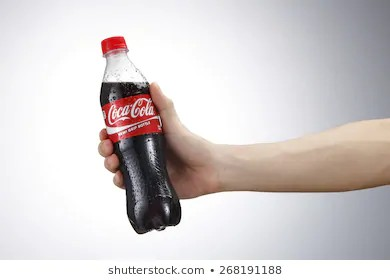coke-bottle-700ml: (87, 28, 190, 235)
